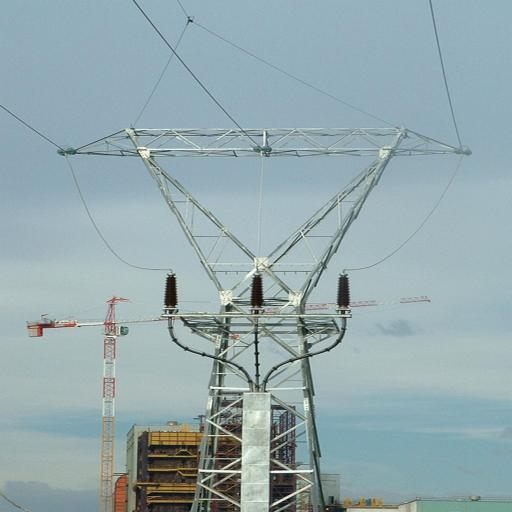wt_6: (56, 126, 472, 512)
